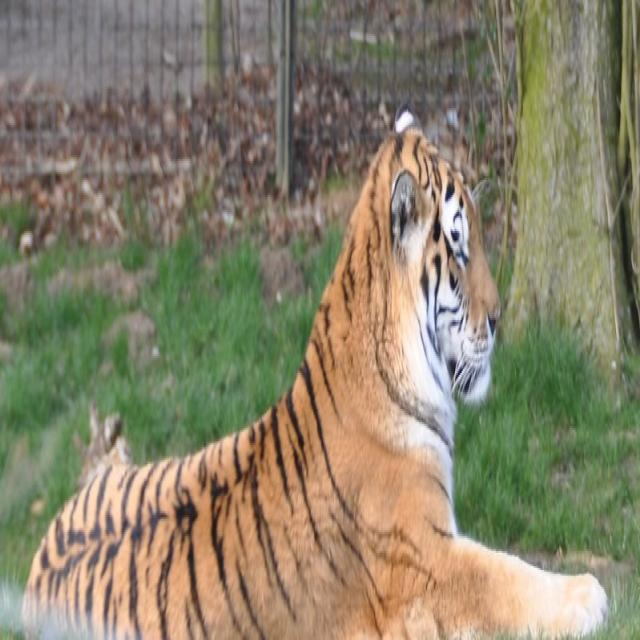Tiger: (21, 97, 607, 636)
